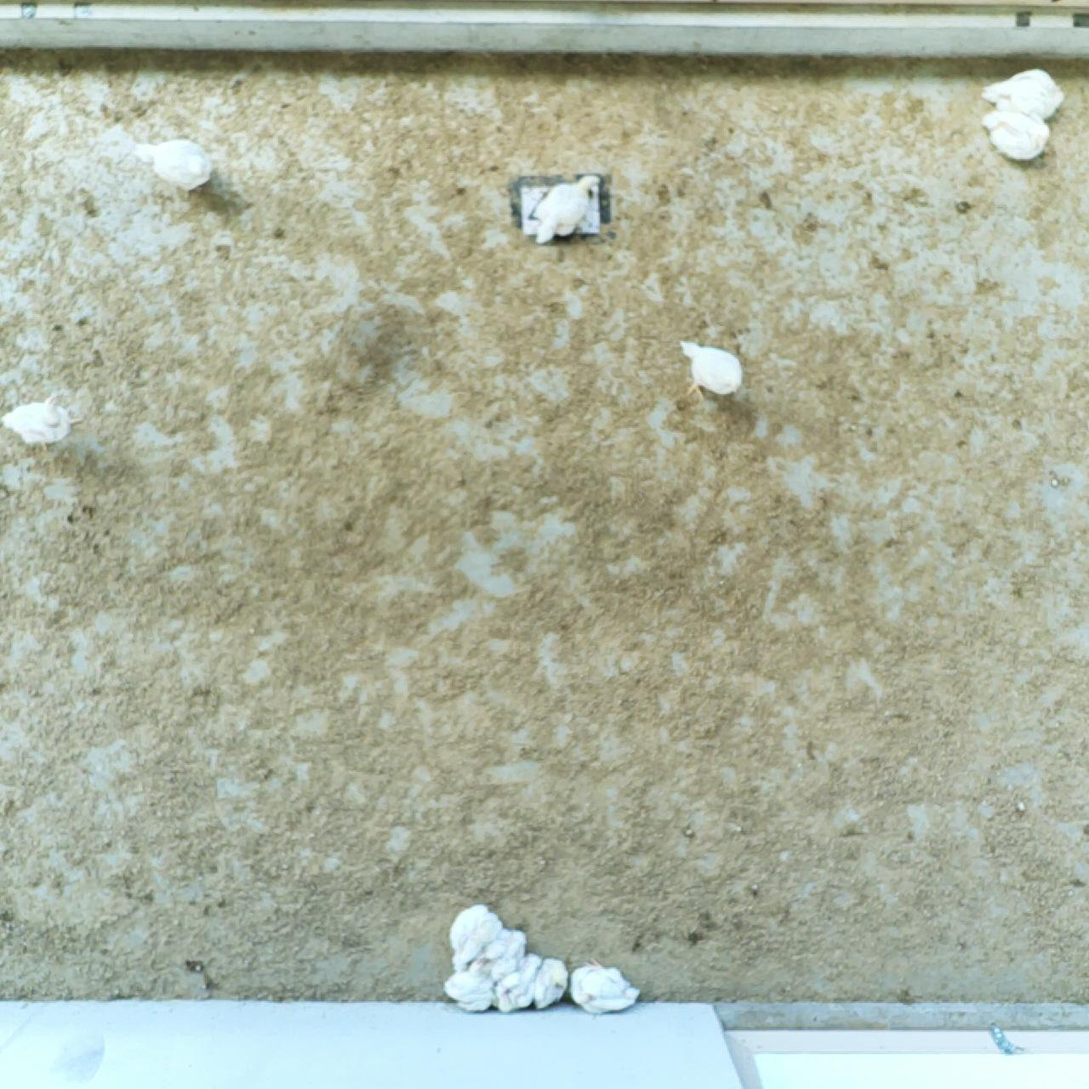chicken: (3, 401, 85, 455), (133, 137, 213, 191), (985, 67, 1062, 123), (533, 175, 596, 243), (679, 342, 743, 402), (980, 110, 1051, 162), (570, 961, 641, 1011), (449, 905, 504, 967), (444, 965, 499, 1016), (504, 956, 544, 1012), (529, 957, 570, 1010), (481, 931, 524, 978)
